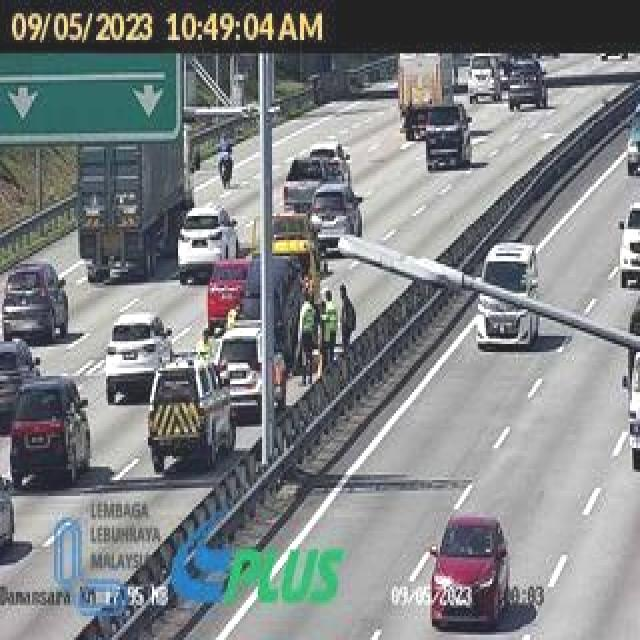Car: (146, 356, 235, 472), (430, 514, 511, 630), (12, 376, 92, 476), (214, 323, 288, 415), (105, 314, 177, 404), (2, 263, 74, 341), (177, 207, 238, 285), (305, 183, 366, 257), (0, 337, 42, 430), (204, 252, 253, 325), (422, 101, 473, 170), (280, 154, 334, 212), (507, 58, 548, 116), (618, 197, 640, 288), (466, 52, 499, 102), (0, 470, 15, 558)
Cycle: (216, 145, 236, 188)
Truck: (73, 118, 195, 284), (392, 51, 462, 140)
Van: (475, 242, 540, 353)
